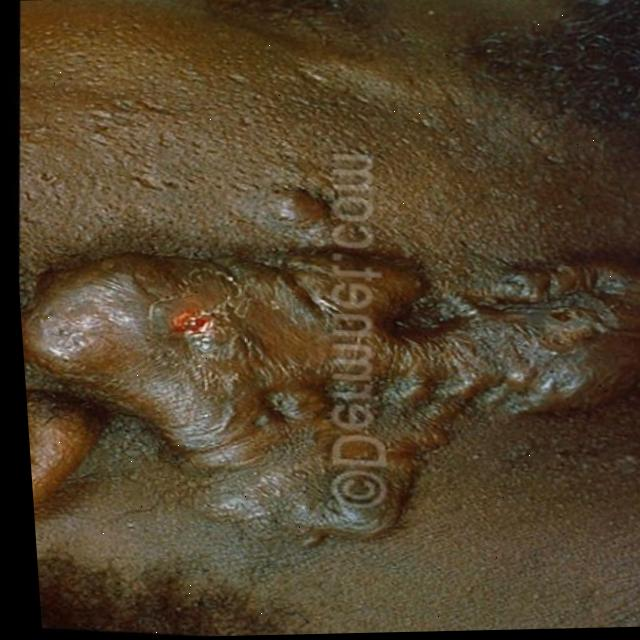Eczema: (99, 226, 640, 505)
